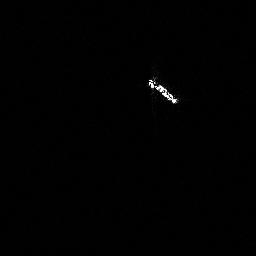ship: (146, 76, 179, 104)
